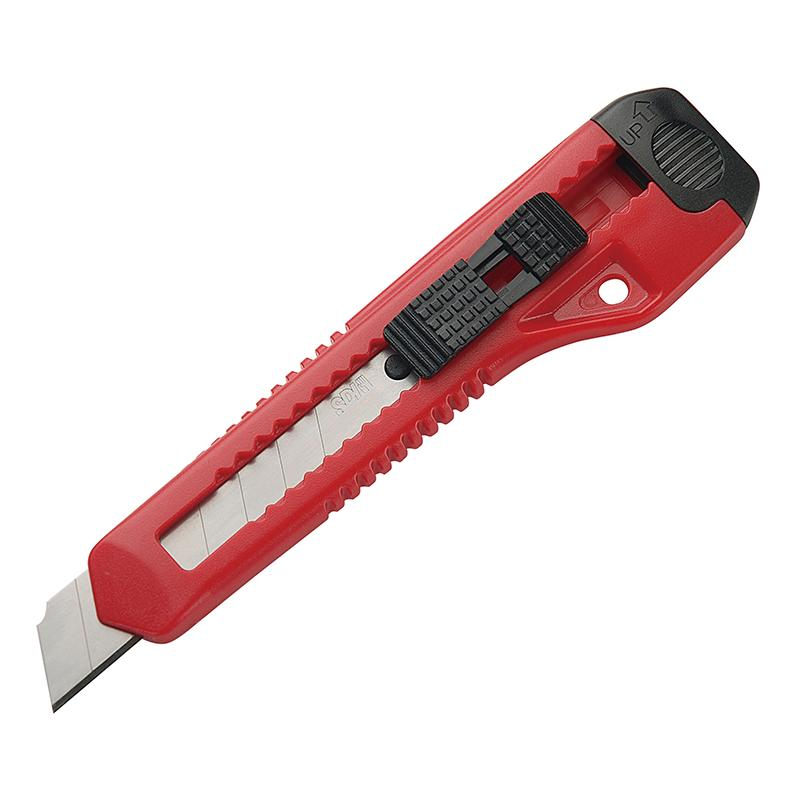cutter: (35, 85, 762, 718)
